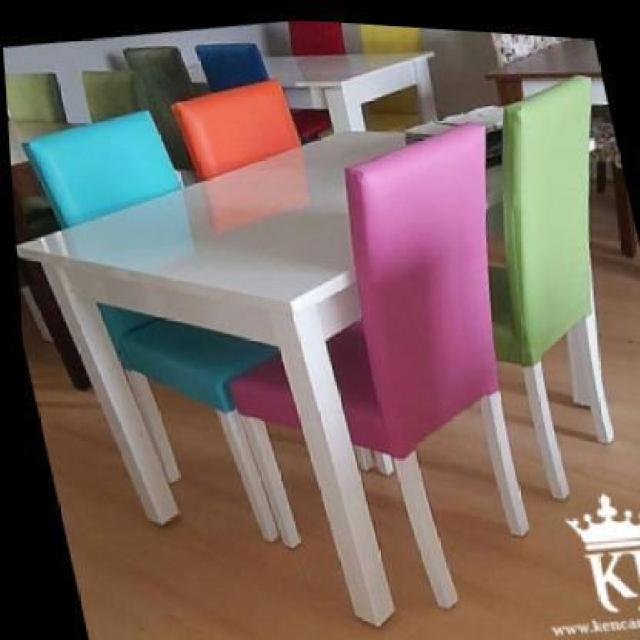tables: (14, 106, 601, 628)
